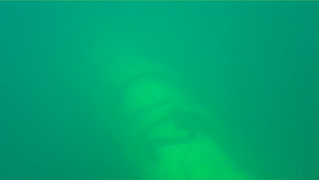2: (143, 120, 197, 169)
pipe: (86, 1, 251, 179)
